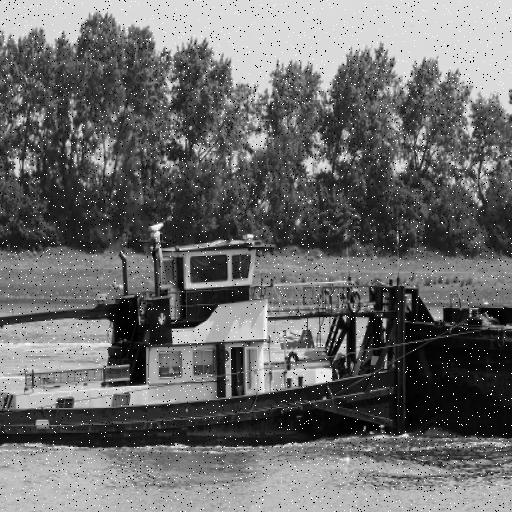tugboat: (1, 216, 415, 475)
